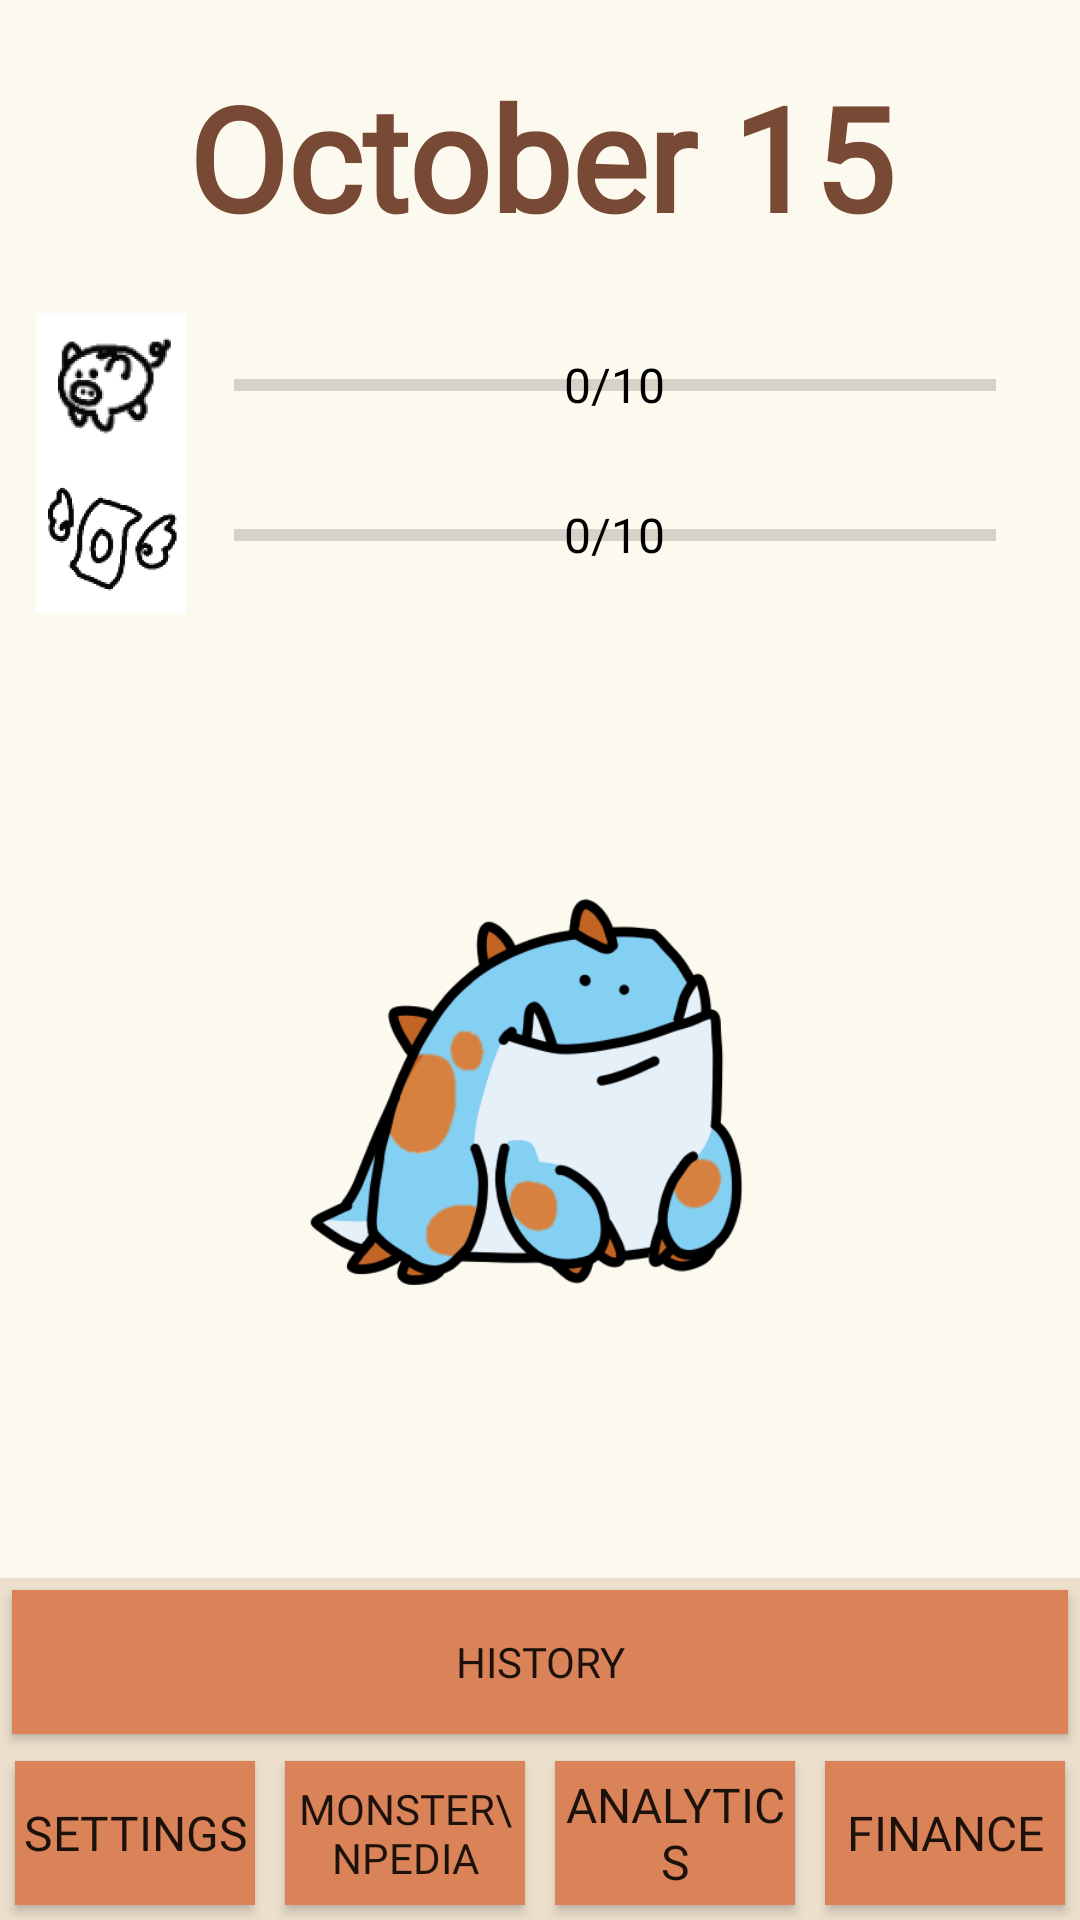

Icon bounding boxes for this 1080*1920 phone screenshot, format [x1=x1, y1=y1, x2=x2, y2=y2]:
moneyfly: [x1=36, y1=463, x2=186, y2=613]
piggy: [x1=36, y1=313, x2=186, y2=463]
